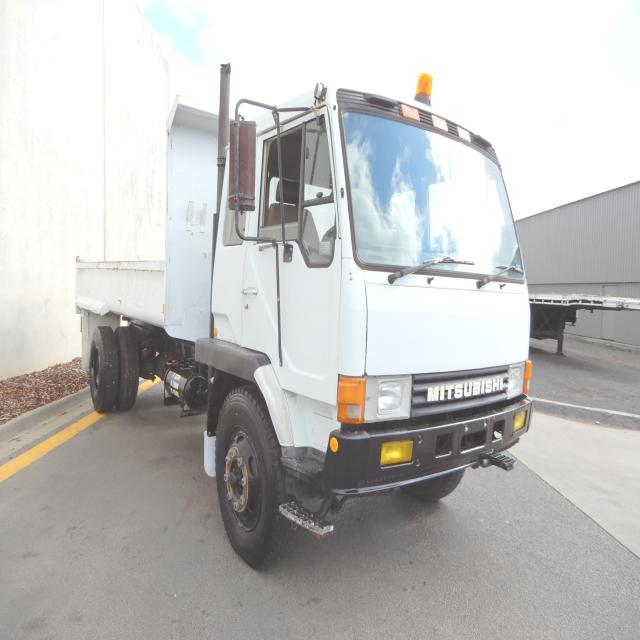truck: (78, 76, 535, 566)
